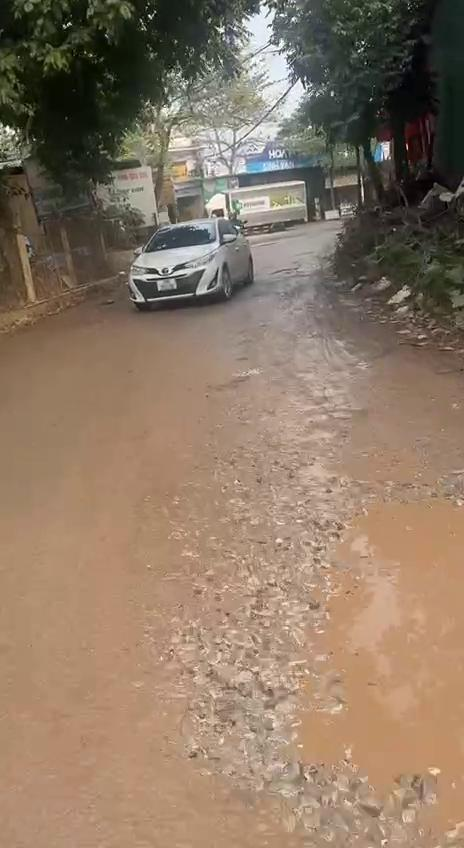pothole: (200, 459, 464, 848)
